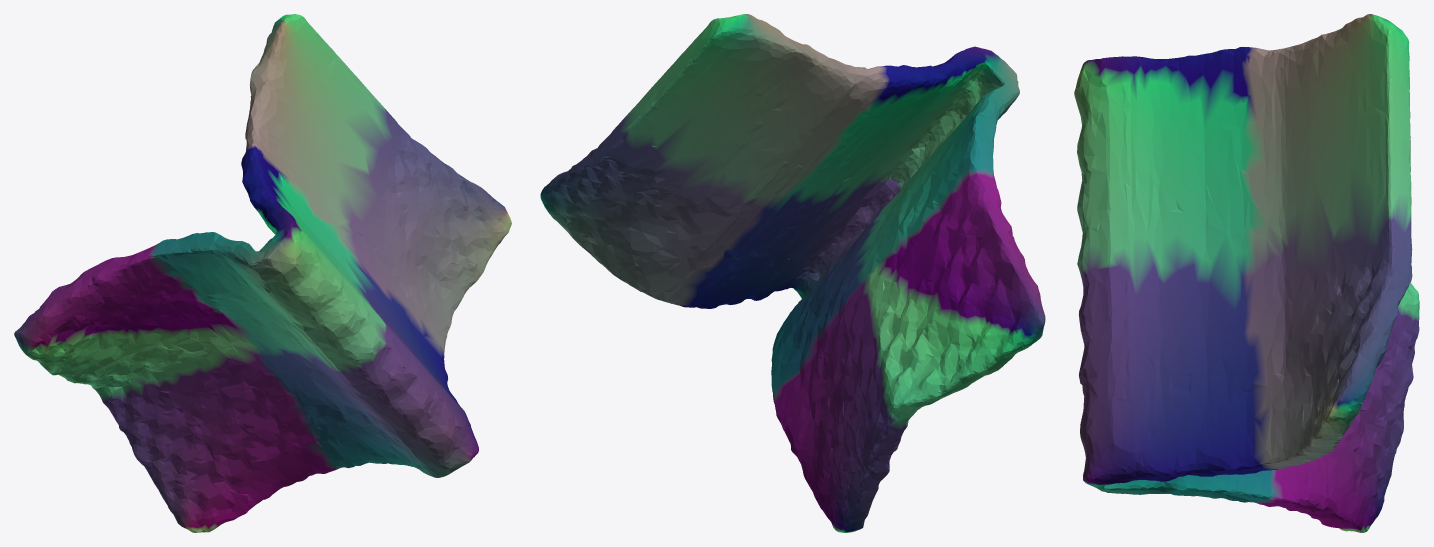
File: paper-10.off.obj
3 renders of one model, left to right at view 1: azimuth 30°, elevation 25°; view 2: azimuth 150°, elevation 25°; view 3: azimuth 270°, elevation 25°, orthographic. The views are drawn at different scales.
Size of the model in its own units: 1.68 by 1.59 by 0.8767.
